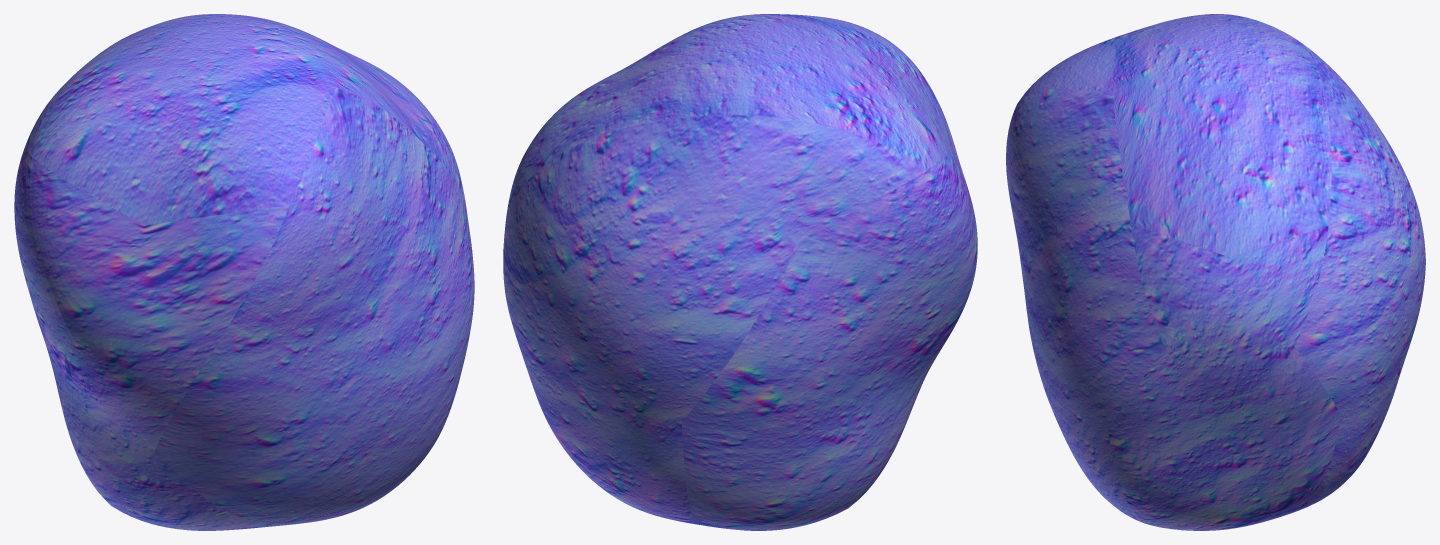
The model's file is smallasteroid12_LOD0.fbx.
The picture shows the model from 3 angles, left to right: view 1: azimuth 30°, elevation 25°; view 2: azimuth 150°, elevation 25°; view 3: azimuth 270°, elevation 25°; orthographic projection. The views are drawn at different scales.
Parts seen in each view (by area): view 1: Icosphere; view 2: Icosphere; view 3: Icosphere.
Boxes of the visible parts, x1,y1,x2,y2 form: Icosphere: (14, 14, 474, 530); Icosphere: (503, 14, 977, 530); Icosphere: (1006, 14, 1425, 530).
Size of the model in its own units: 217 by 229 by 199.
